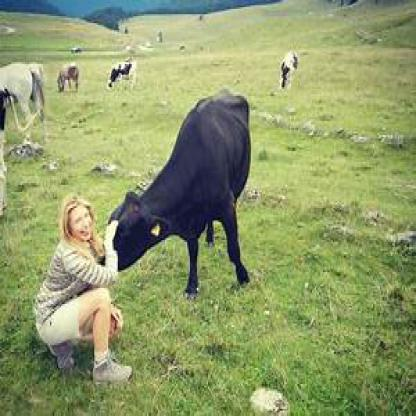cow: (101, 85, 258, 299), (52, 60, 84, 90), (108, 60, 139, 90), (278, 50, 302, 87)
